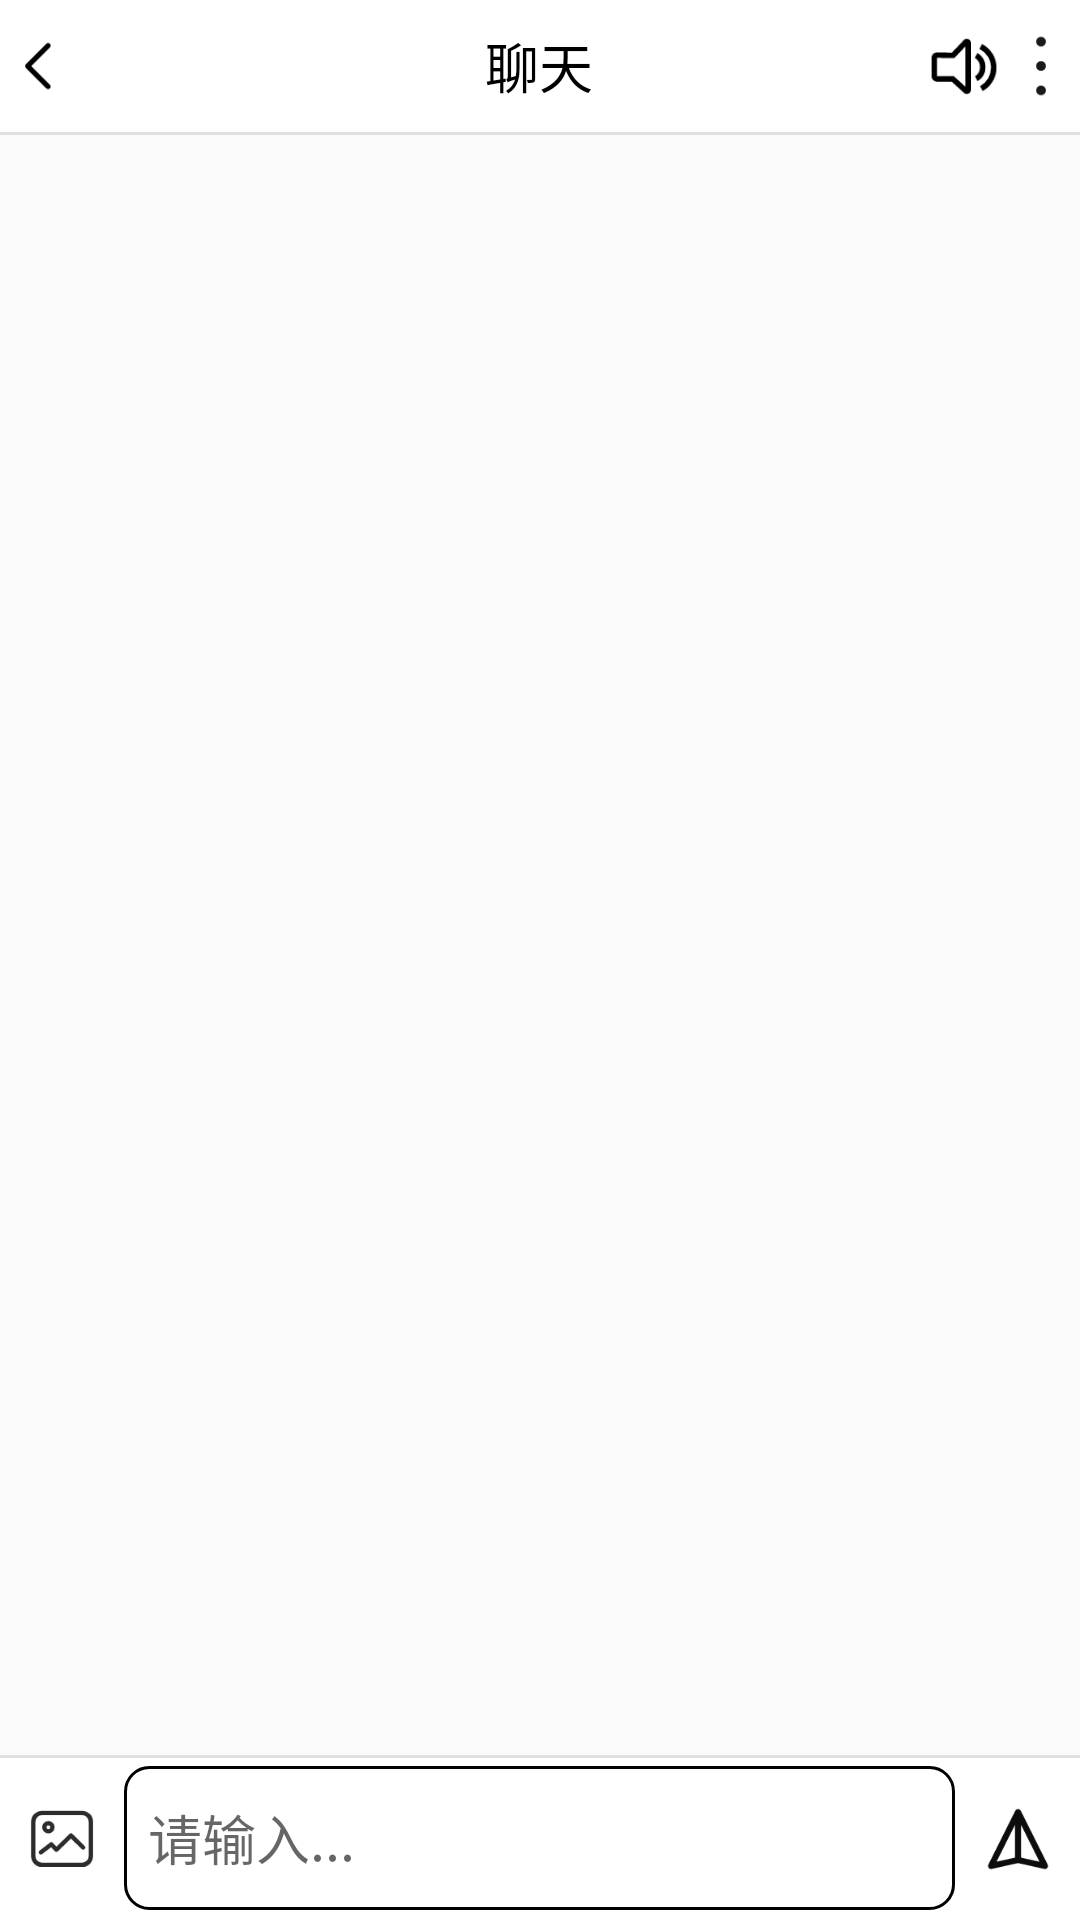

Where icons sit on this 1080px x 1920px app screen, as [left=x1, top=y1, right=x2, bottom=y2]:
arrow left: [left=25, top=42, right=51, bottom=90]
horn open: [left=931, top=38, right=997, bottom=95]
more: [left=1036, top=36, right=1046, bottom=96]
发送: [left=987, top=1809, right=1049, bottom=1870]
相册: [left=31, top=1810, right=93, bottom=1867]
